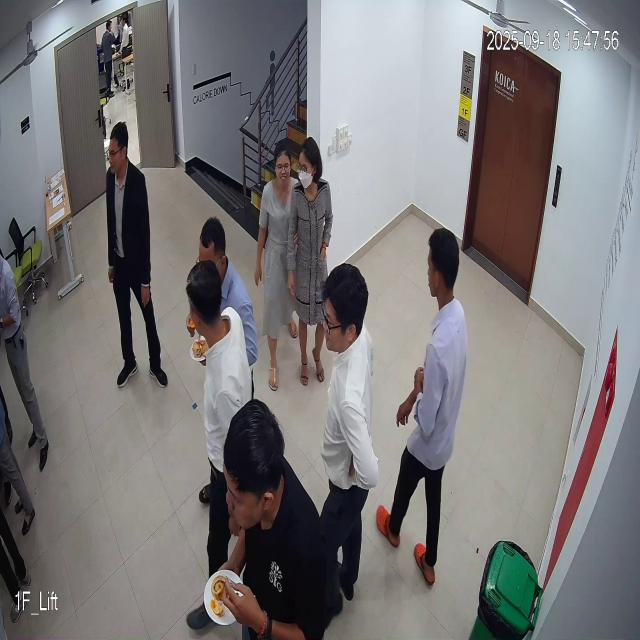face: (322, 265, 370, 360), (105, 119, 132, 183), (294, 136, 319, 189), (272, 147, 294, 193)
